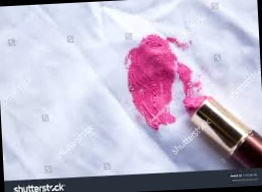lipstick: (121, 34, 202, 130)
